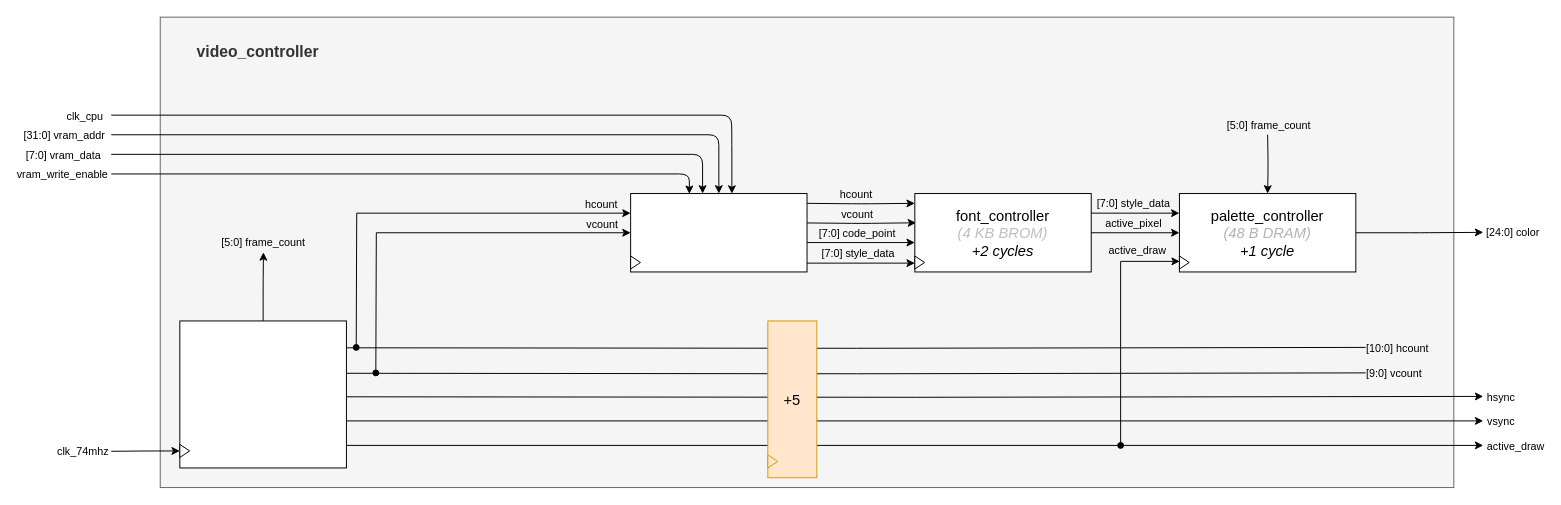
Some shapes in this 1561 by 505 pixel diagram are drawn without their labels. The shapes that lost their labels are listed below. From the top down, each one's centre as x and y in pixels, then its label:
At point (718, 232): "character_controller (14.4 KB BRAM) +2 cycles".
At point (262, 394): "video_signal_gen".
